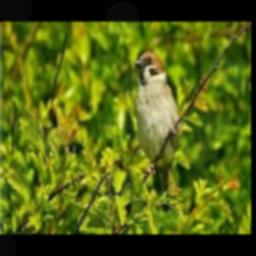Sparrow: (134, 52, 180, 212)
